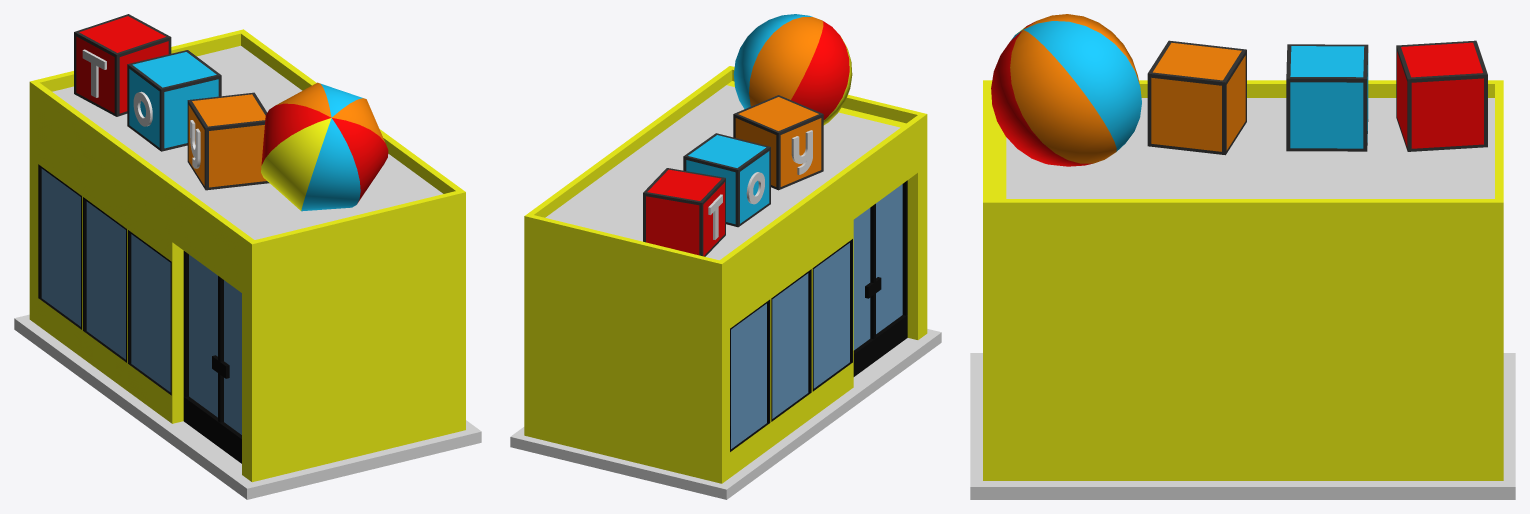
Rendered from Shop_Toys_A.fbx.
3 views of the same model, side by side, from view 1: azimuth 30°, elevation 25°; view 2: azimuth 150°, elevation 25°; view 3: azimuth 270°, elevation 25° (orthographic). The views are drawn at different scales.
Parts seen in each view (by area): view 1: Shop_Toys_A; view 2: Shop_Toys_A; view 3: Shop_Toys_A.
Part boxes in pixels (x1,y1,x2,y2): Shop_Toys_A: (14, 14, 481, 499); Shop_Toys_A: (510, 14, 941, 499); Shop_Toys_A: (970, 14, 1515, 499).
Bounding box in the file's own units: 64.03 × 91.82 × 110.
